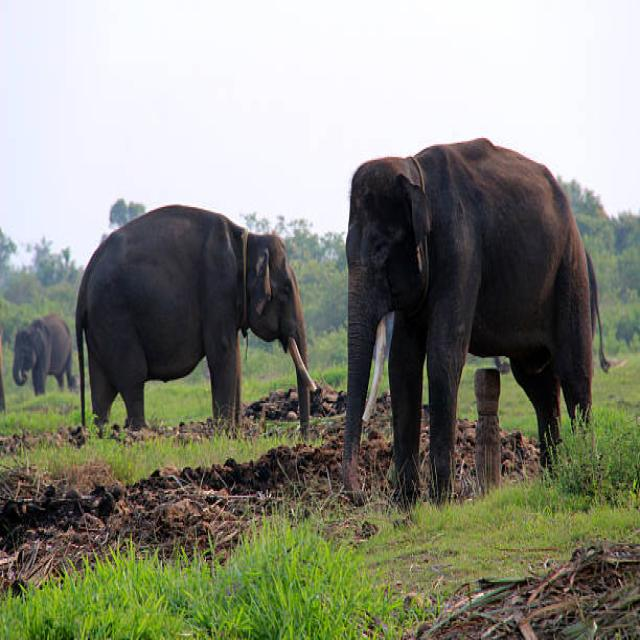Elephant: (343, 126, 602, 497), (76, 201, 317, 440), (11, 309, 74, 399)
